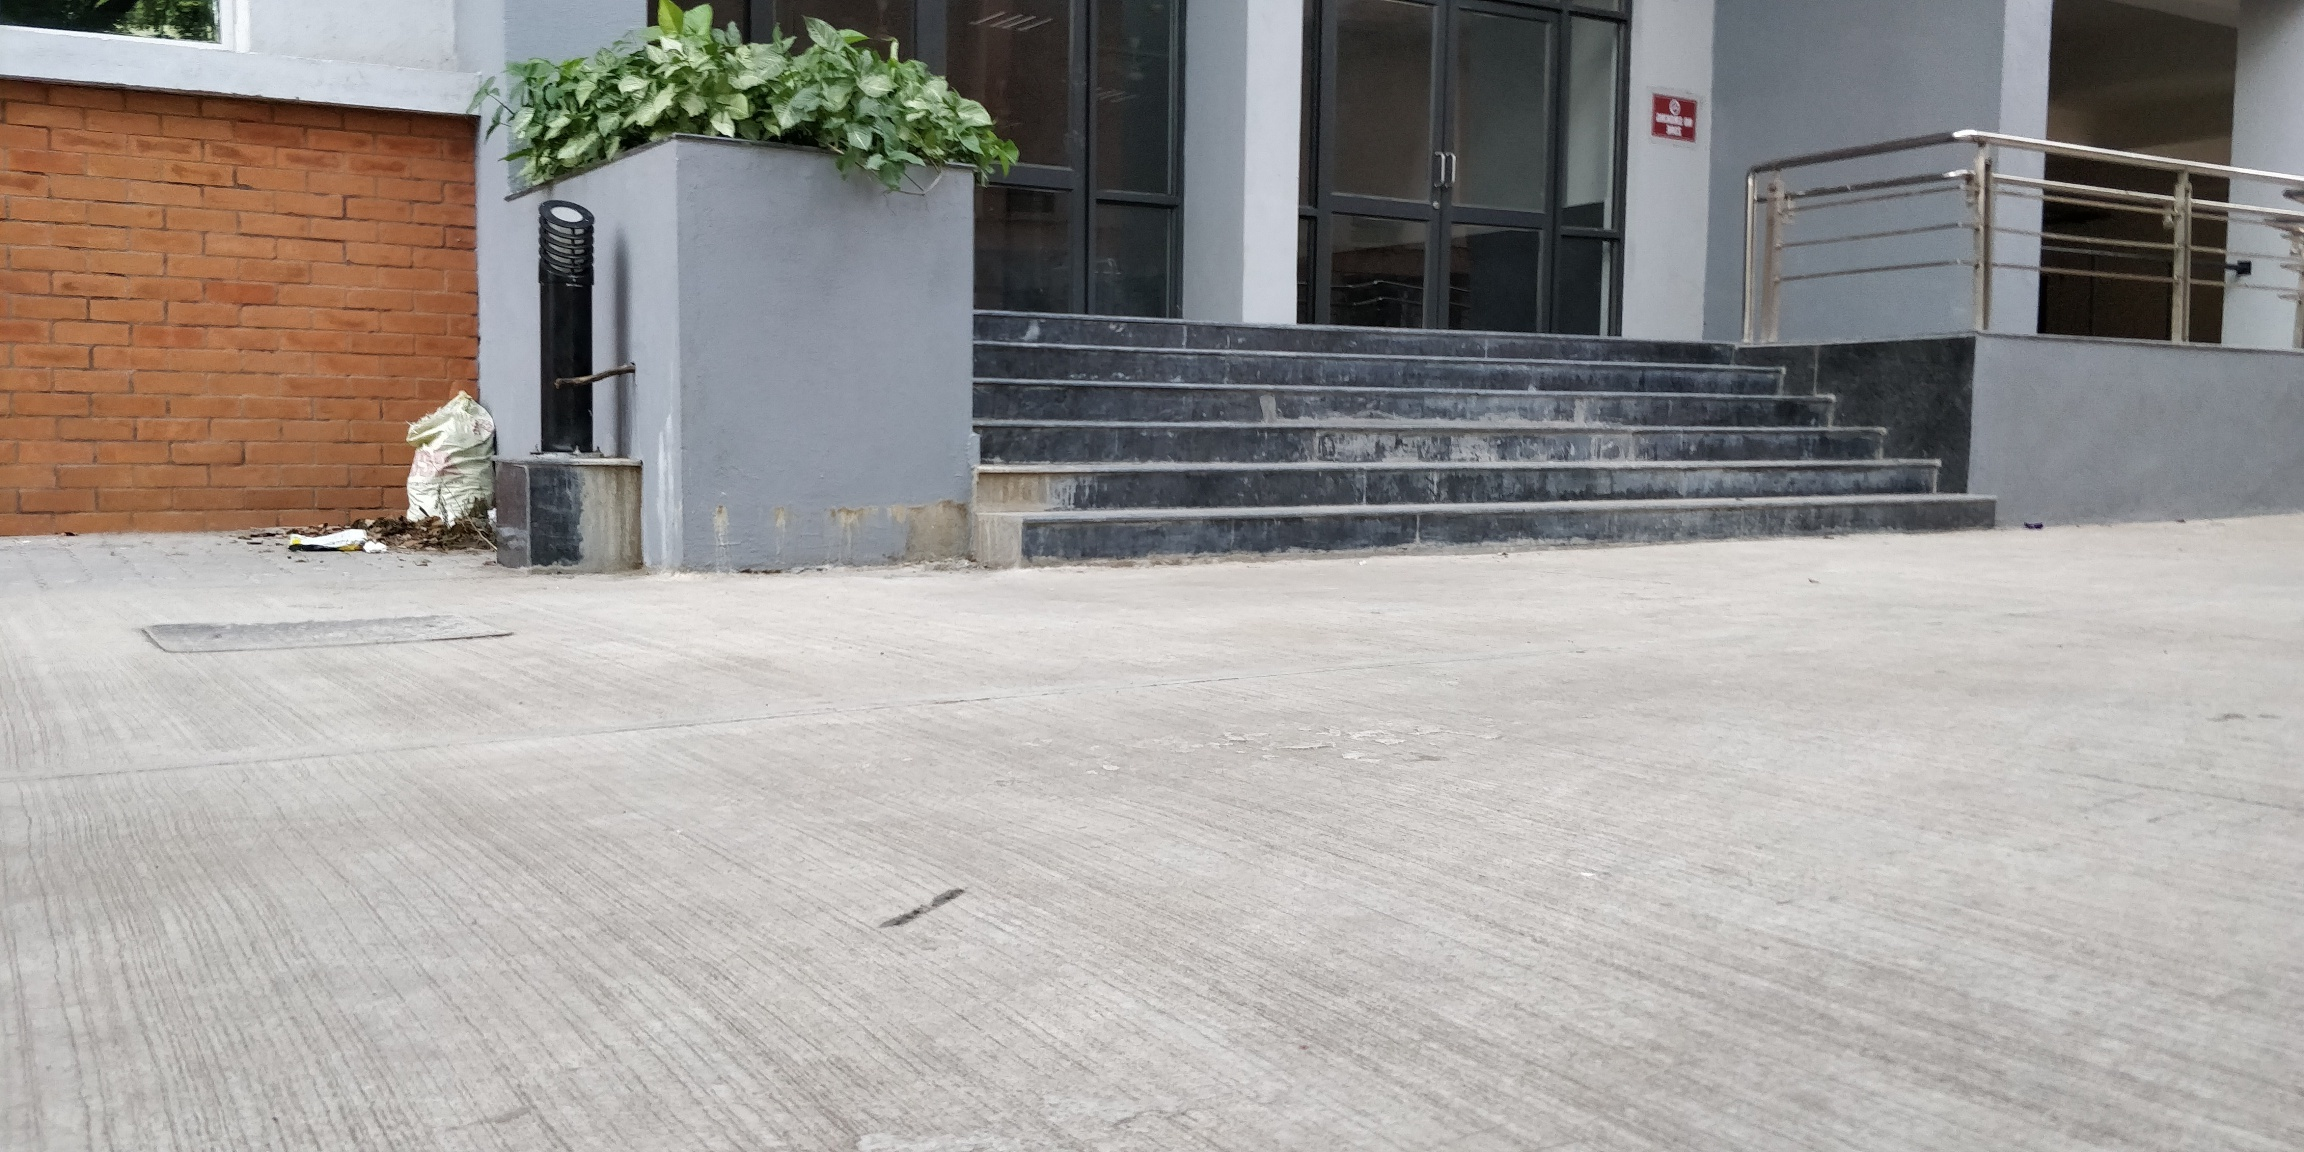stairs_up: (977, 287, 1918, 552)
